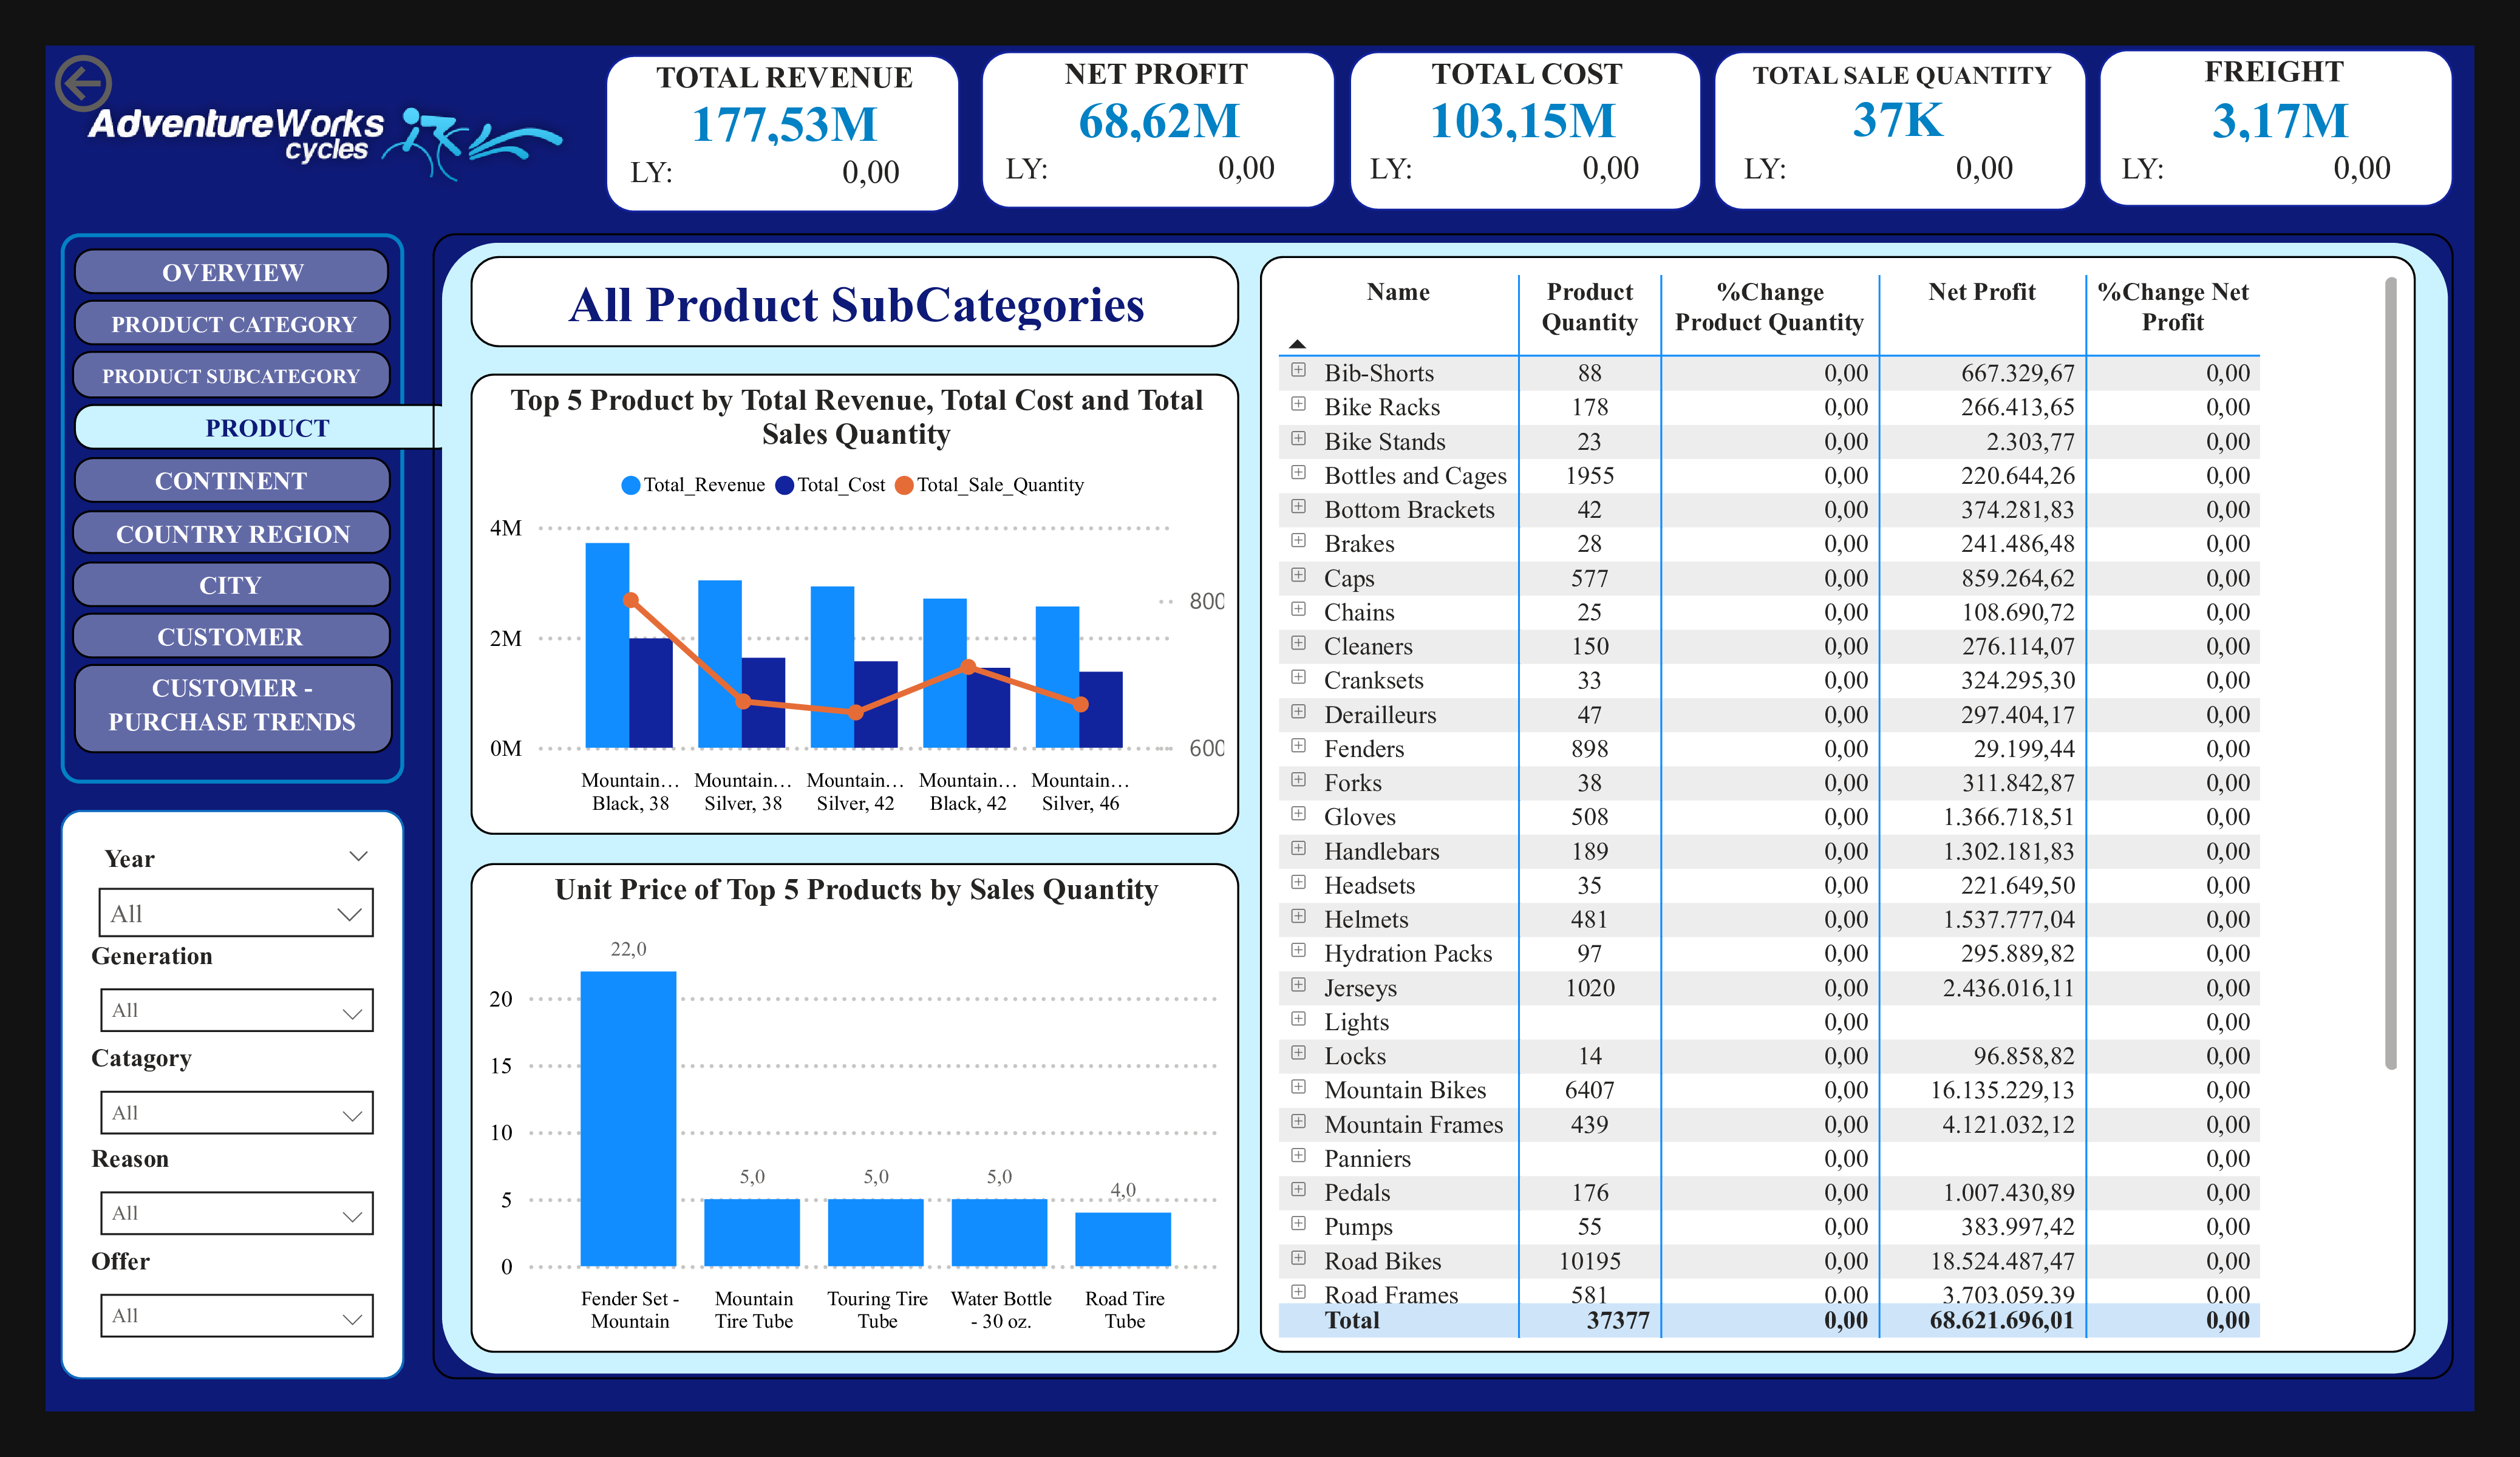

Layout of this report page (visuals, bound fields, positions):
{"tool":"powerbi","page":{"name":"Subcategory ","canvas":[1280,720],"ordinal":2},"visuals":[{"type":"textbox","box":[1081.7,1.9,186.7,83.3],"z":0,"group":"g15"},{"type":"textbox","box":[686.8,2.9,186.4,83.6],"z":0,"group":"g16"},{"type":"textbox","box":[879.5,2.9,197.1,83.6],"z":0,"group":"g17"},{"type":"textbox","box":[493.3,3.3,186.7,83.3],"z":0,"group":"g13"},{"type":"textbox","box":[295.4,4.6,186.7,83.3],"z":0,"group":"g12"},{"type":"group","id":"g1","title":"Group 3","box":[1088.8,50.5,94.3,29.3],"z":0,"group":"g6"},{"type":"textbox","box":[1088.8,50.5,83.6,29.3],"z":0,"group":"g1"},{"type":"group","id":"g2","title":"Group 3","box":[890.9,50.8,94.3,29.3],"z":0,"group":"g7"},{"type":"textbox","box":[890.9,50.8,83.6,29.3],"z":0,"group":"g2"},{"type":"group","id":"g3","title":"Group 3","box":[692.3,51.2,94.3,29.3],"z":0,"group":"g8"},{"type":"textbox","box":[692.3,51.2,83.6,29.3],"z":0,"group":"g3"},{"type":"group","id":"g4","title":"Group 3","box":[501.7,51.5,94.3,29.3],"z":0,"group":"g9"},{"type":"textbox","box":[501.7,51.5,83.6,29.3],"z":0,"group":"g4"},{"type":"group","id":"g5","title":"Group 3","box":[303.8,52.9,94.3,29.3],"z":0,"group":"g10"},{"type":"textbox","box":[303.8,52.9,83.6,29.3],"z":0,"group":"g5"},{"type":"shape","box":[7.5,99,181.5,290],"z":0},{"type":"image","box":[0,22,295,61],"z":1000},{"type":"card","fields":{"Values":["Fact_SalesOrderHeader.Total_Sale_Quantity"]},"box":[902.1,23.4,147.5,33.3],"z":1000,"group":"g17"},{"type":"card","fields":{"Values":["Sum(Fact_SalesOrderHeader.Freight_4_order)"]},"box":[1102.8,23.6,147.8,33.3],"z":1000,"group":"g15"},{"type":"card","fields":{"Values":["Fact_SalesOrderHeader.Total_Cost"]},"box":[703.5,23.7,147.5,33.3],"z":1000,"group":"g16"},{"type":"card","fields":{"Values":["Fact_SalesOrderHeader.Net_Profit"]},"box":[512.9,24.1,147.5,33.3],"z":1000,"group":"g18"},{"type":"card","fields":{"Values":["Fact_SalesOrderHeader.Total_Revenue"]},"box":[315,25.4,147.5,33.3],"z":1000,"group":"g12"},{"type":"card","fields":{"Values":["Fact_SalesOrderHeader.Prev_Freight"]},"box":[1115.6,50.5,67.5,24.3],"z":1000,"group":"g1"},{"type":"card","fields":{"Values":["Fact_SalesOrderHeader.%Change_Freight"]},"box":[1183,50.6,76.2,29.2],"z":1000,"group":"g6"},{"type":"card","fields":{"Values":["Fact_SalesOrderHeader.Prev_Total_Product_Sale_Quantity"]},"box":[917.7,50.8,67.5,24.3],"z":1000,"group":"g2"},{"type":"card","fields":{"Values":["Fact_SalesOrderHeader.%Change_Total_Product_Sale_Quantity"]},"box":[985.1,50.9,76.2,29.2],"z":1000,"group":"g7"},{"type":"card","fields":{"Values":["Fact_SalesOrderHeader.Prev_Total_Cost"]},"box":[719.1,51.2,67.5,24.3],"z":1000,"group":"g3"},{"type":"card","fields":{"Values":["Fact_SalesOrderHeader.%Change_Cost"]},"box":[786.5,51.3,76.2,29.2],"z":1000,"group":"g8"},{"type":"card","fields":{"Values":["Fact_SalesOrderHeader.Prev_Net_Profit"]},"box":[528.5,51.5,67.5,24.3],"z":1000,"group":"g4"},{"type":"card","fields":{"Values":["Fact_SalesOrderHeader.%Change_Net_Profit"]},"box":[595.9,51.6,76.2,29.2],"z":1000,"group":"g9"},{"type":"card","fields":{"Values":["Fact_SalesOrderHeader.Prev_Total_Revenue"]},"box":[330.6,52.9,67.5,24.3],"z":1000,"group":"g5"},{"type":"card","fields":{"Values":["Fact_SalesOrderHeader.%Change_Revenue"]},"box":[398,53,76.2,29.2],"z":1000,"group":"g10"},{"type":"textbox","box":[14.7,106.7,167.3,24],"z":2000},{"type":"textbox","box":[14.8,134.1,167,24.1],"z":3000},{"type":"textbox","box":[14.7,161.3,202,24],"z":4000},{"type":"textbox","box":[14.4,188.9,167.4,24.4],"z":5000},{"type":"textbox","box":[14.7,216.8,167.4,23.7],"z":6000},{"type":"textbox","box":[14.2,244.7,167.4,23.7],"z":7000},{"type":"group","id":"g6","title":"Group 4","box":[1088.8,50.5,170.6,29.4],"z":8000,"group":"g15"},{"type":"group","id":"g7","title":"Group 4","box":[890.9,50.8,170.5,29.3],"z":8000,"group":"g17"},{"type":"group","id":"g8","title":"Group 4","box":[692.3,51.2,170.5,29.3],"z":8000,"group":"g16"},{"type":"group","id":"g9","title":"Group 4","box":[501.7,51.5,170.5,29.3],"z":8000,"group":"g18"},{"type":"group","id":"g10","title":"Group 4","box":[303.8,52.9,170.5,29.3],"z":8000,"group":"g12"},{"type":"textbox","box":[14.2,272.1,167.4,23.7],"z":8000},{"type":"textbox","box":[14.2,299.5,167.4,23.7],"z":9000},{"type":"textbox","box":[15,326.1,167.8,47.2],"z":10000},{"type":"shape","box":[8.2,402.5,181.2,300],"z":11000},{"type":"slicer","fields":{"Values":["Datetime.OrderDate.Variation.Date Hierarchy.Year"]},"box":[18.2,416.2,165.2,56.5],"z":11000,"group":"g11"},{"type":"group","id":"g11","title":"Group 1","box":[18.2,416.2,165,272.5],"z":12000},{"type":"slicer","title":"Catagory ","fields":{"Values":["ProductCategory.Name"]},"box":[19,526.6,164.4,52.7],"z":12000,"group":"g11"},{"type":"shape","box":[203.8,98.8,1065,603.8],"z":13000},{"type":"slicer","title":"Reason ","fields":{"Values":["SalesReason.Name"]},"box":[19,579.3,164.4,54],"z":13000,"group":"g11"},{"type":"columnChart","title":"Sum of Freight and Total Tax by Subcategory ","fields":{"Category":["ProductSubcategory.Name"],"Y":["Sum(Fact_SalesOrderHeader.Freight_4_order)","Fact_SalesOrderHeader.Total_Tax"]},"box":[642.9,400,607.1,284.3],"z":14000},{"type":"slicer","title":"Offer ","fields":{"Values":["SpecialOffer.Type"]},"box":[19,633.3,164.4,55.2],"z":14000,"group":"g11"},{"type":"pivotTable","fields":{"Rows":["ProductCategory.Name","ProductSubcategory.Name"],"Columns":["Year.Year"],"Values":["Fact_SalesOrderHeader.Total_Product_Sale_Quantity","Fact_SalesOrderHeader.Gross_Profit"]},"box":[640,111.4,610,277.1],"z":15000},{"type":"slicer","title":"Generation","fields":{"Values":["Sales Customer.Generation"]},"box":[19,472.7,164.4,55.2],"z":15000,"group":"g11"},{"type":"lineClusteredColumnComboChart","title":"Total Revenue, Total Cost and Net Profit by Subcategory ","fields":{"Category":["ProductSubcategory.Name"],"Y":["Fact_SalesOrderHeader.Total_Revenue","Fact_SalesOrderHeader.Total_Cost"],"Y2":["Fact_SalesOrderHeader.Net_Profit"]},"box":[224.3,172.9,402.9,282.9],"z":16000},{"type":"clusteredBarChart","title":"Discount Amount by Subcategory ","fields":{"Category":["ProductSubcategory.Name"],"Y":["Fact_SalesOrderDetail.Discount_Amount"]},"box":[224.3,468.6,404.3,215.7],"z":17000},{"type":"card","fields":{"Values":["Datetime.Year_Category"]},"box":[224.3,111.4,404.3,47.1],"z":18000},{"type":"actionButton","box":[0,0,100,40],"z":19000},{"type":"group","id":"g12","title":"Group 2","box":[295.4,4.6,186.7,83.3],"z":20000},{"type":"group","id":"g13","title":"Group 2","box":[493.3,3.3,186.7,83.3],"z":21000},{"type":"group","id":"g14","title":"Group 2","box":[686.8,2.9,186.7,84.2],"z":22000},{"type":"group","id":"g15","title":"Group 8","box":[1081.7,1.9,186.7,83.3],"z":22001,"group":"g20"},{"type":"group","id":"g16","title":"Group 6","box":[686.8,2.9,186.4,83.6],"z":22001,"group":"g14"},{"type":"group","id":"g17","title":"Group 7","box":[879.5,2.9,197.1,83.6],"z":22001,"group":"g19"},{"type":"group","id":"g18","title":"Group 5","box":[501.7,24.1,170.5,56.7],"z":22001,"group":"g13"},{"type":"group","id":"g19","title":"Group 2","box":[879.5,2.9,197.1,83.6],"z":23000},{"type":"group","id":"g20","title":"Group 2","box":[1081.7,1.9,186.7,83.3],"z":24000}]}

Visuals, with their boxes on the page's 1280x720 design canvas (x1, y1, x2, y2). These are canvas units, not pixel positions in the 2520x1457 screenshot, which may show the page scaled, cropped or inside an application window:
textbox: bbox=(1082, 2, 1268, 85)
textbox: bbox=(687, 3, 873, 86)
textbox: bbox=(880, 3, 1077, 86)
textbox: bbox=(493, 3, 680, 87)
textbox: bbox=(295, 5, 482, 88)
"Group 3" group: bbox=(1089, 50, 1183, 80)
textbox: bbox=(1089, 50, 1172, 80)
"Group 3" group: bbox=(891, 51, 985, 80)
textbox: bbox=(891, 51, 974, 80)
"Group 3" group: bbox=(692, 51, 787, 80)
textbox: bbox=(692, 51, 776, 80)
"Group 3" group: bbox=(502, 52, 596, 81)
textbox: bbox=(502, 52, 585, 81)
"Group 3" group: bbox=(304, 53, 398, 82)
textbox: bbox=(304, 53, 387, 82)
shape: bbox=(8, 99, 189, 389)
image: bbox=(0, 22, 295, 83)
card - Fact_SalesOrderHeader.Total_Sale_Quantity: bbox=(902, 23, 1050, 57)
card - Sum(Fact_SalesOrderHeader.Freight_4_order): bbox=(1103, 24, 1251, 57)
card - Fact_SalesOrderHeader.Total_Cost: bbox=(704, 24, 851, 57)
card - Fact_SalesOrderHeader.Net_Profit: bbox=(513, 24, 660, 57)
card - Fact_SalesOrderHeader.Total_Revenue: bbox=(315, 25, 462, 59)
card - Fact_SalesOrderHeader.Prev_Freight: bbox=(1116, 50, 1183, 75)
card - Fact_SalesOrderHeader.%Change_Freight: bbox=(1183, 51, 1259, 80)
card - Fact_SalesOrderHeader.Prev_Total_Product_Sale_Quantity: bbox=(918, 51, 985, 75)
card - Fact_SalesOrderHeader.%Change_Total_Product_Sale_Quantity: bbox=(985, 51, 1061, 80)
card - Fact_SalesOrderHeader.Prev_Total_Cost: bbox=(719, 51, 787, 76)
card - Fact_SalesOrderHeader.%Change_Cost: bbox=(786, 51, 863, 80)
card - Fact_SalesOrderHeader.Prev_Net_Profit: bbox=(528, 52, 596, 76)
card - Fact_SalesOrderHeader.%Change_Net_Profit: bbox=(596, 52, 672, 81)
card - Fact_SalesOrderHeader.Prev_Total_Revenue: bbox=(331, 53, 398, 77)
card - Fact_SalesOrderHeader.%Change_Revenue: bbox=(398, 53, 474, 82)
textbox: bbox=(15, 107, 182, 131)
textbox: bbox=(15, 134, 182, 158)
textbox: bbox=(15, 161, 217, 185)
textbox: bbox=(14, 189, 182, 213)
textbox: bbox=(15, 217, 182, 240)
textbox: bbox=(14, 245, 182, 268)
"Group 4" group: bbox=(1089, 50, 1259, 80)
"Group 4" group: bbox=(891, 51, 1061, 80)
"Group 4" group: bbox=(692, 51, 863, 80)
"Group 4" group: bbox=(502, 52, 672, 81)
"Group 4" group: bbox=(304, 53, 474, 82)
textbox: bbox=(14, 272, 182, 296)
textbox: bbox=(14, 300, 182, 323)
textbox: bbox=(15, 326, 183, 373)
shape: bbox=(8, 402, 189, 702)
slicer - Datetime.OrderDate.Variation.Date Hierarchy.Year: bbox=(18, 416, 183, 473)
"Group 1" group: bbox=(18, 416, 183, 689)
"Catagory " slicer: bbox=(19, 527, 183, 579)
shape: bbox=(204, 99, 1269, 703)
"Reason " slicer: bbox=(19, 579, 183, 633)
"Sum of Freight and Total Tax by Subcategory " columnChart: bbox=(643, 400, 1250, 684)
"Offer " slicer: bbox=(19, 633, 183, 688)
pivotTable - ProductCategory.Name x ProductSubcategory.Name: bbox=(640, 111, 1250, 388)
"Generation" slicer: bbox=(19, 473, 183, 528)
"Total Revenue, Total Cost and Net Profit by Subcategory " lineClusteredColumnComboChart: bbox=(224, 173, 627, 456)
"Discount Amount by Subcategory " clusteredBarChart: bbox=(224, 469, 629, 684)
card - Datetime.Year_Category: bbox=(224, 111, 629, 158)
actionButton: bbox=(0, 0, 100, 40)
"Group 2" group: bbox=(295, 5, 482, 88)
"Group 2" group: bbox=(493, 3, 680, 87)
"Group 2" group: bbox=(687, 3, 874, 87)
"Group 8" group: bbox=(1082, 2, 1268, 85)
"Group 6" group: bbox=(687, 3, 873, 86)
"Group 7" group: bbox=(880, 3, 1077, 86)
"Group 5" group: bbox=(502, 24, 672, 81)
"Group 2" group: bbox=(880, 3, 1077, 86)
"Group 2" group: bbox=(1082, 2, 1268, 85)
